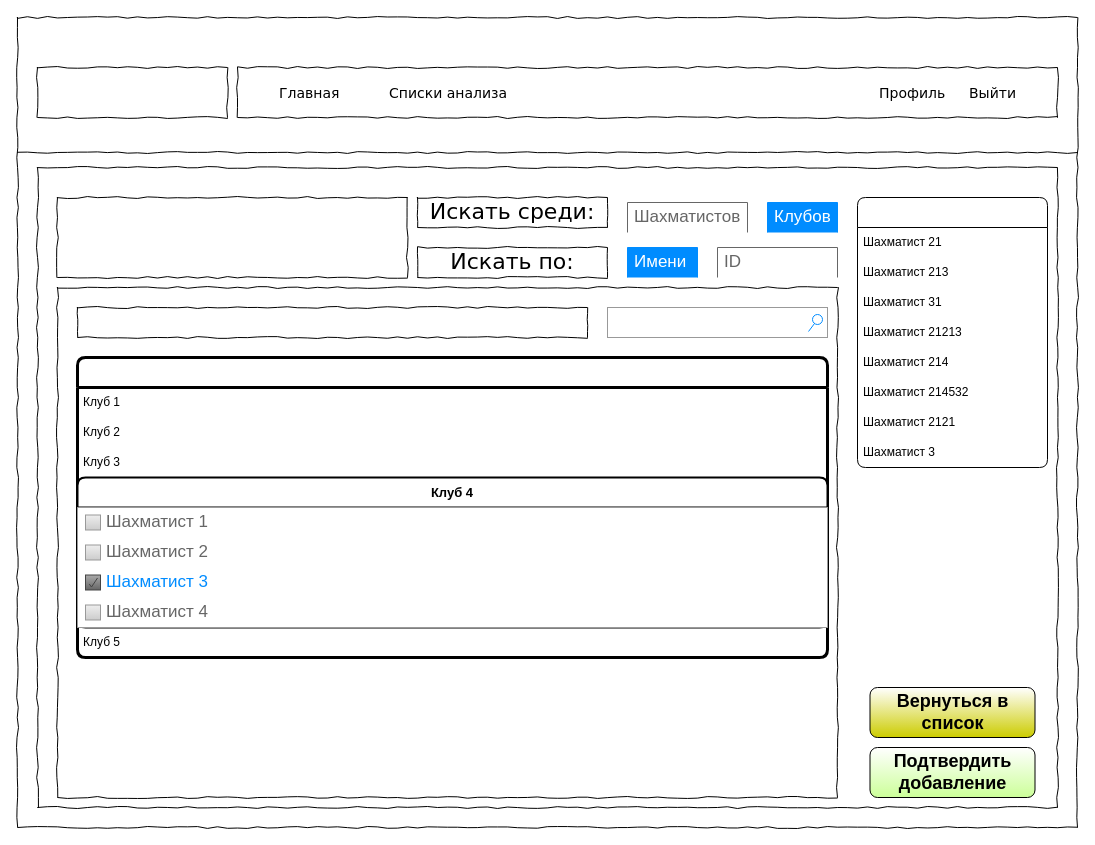
The diagram is 1095 pixels wide and 845 high, and some of its shapes have lost their labels. Here are the shapes that lost their labels. From the top down, the box of each, then its label:
(36, 66, 228, 118): LOGO
(56, 196, 408, 278): Выберите шахматистов для добавления в список
(76, 306, 588, 338): Результаты поиска
(606, 306, 828, 338): Клуб
(856, 196, 1048, 468): Выбранные шахматисты
(76, 356, 828, 658): Найденные клубы
